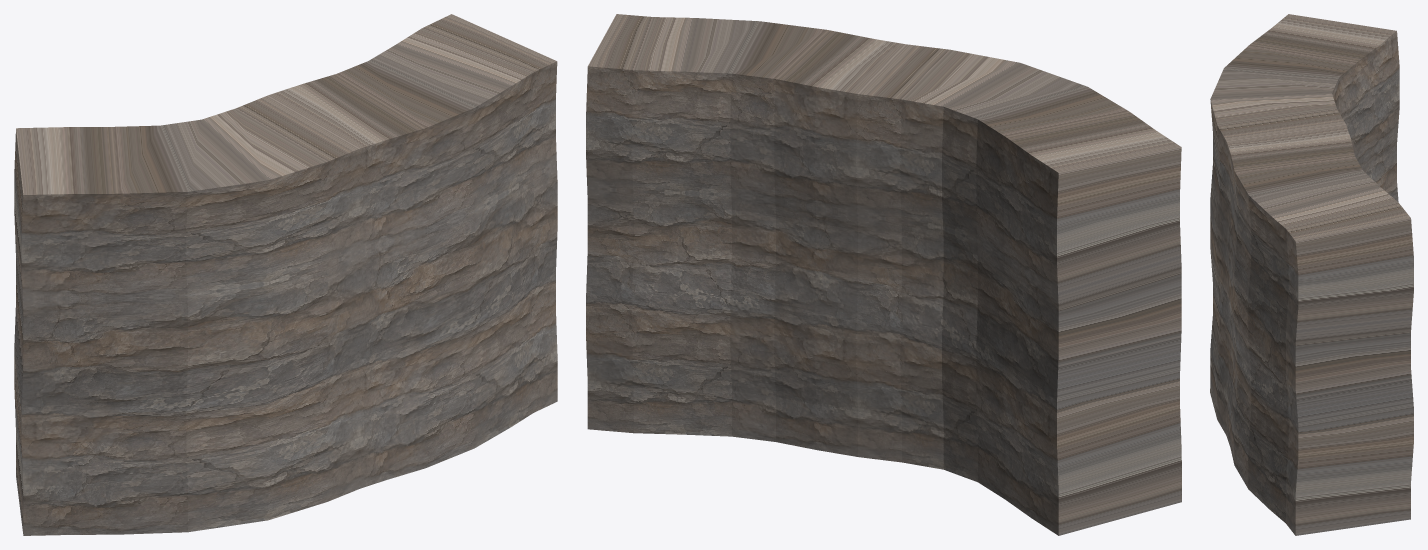
File: cliff-concave.glb
3 renders of one model, left to right at view 1: azimuth 30°, elevation 25°; view 2: azimuth 150°, elevation 25°; view 3: azimuth 270°, elevation 25°, orthographic. The views are drawn at different scales.
Parts seen in each view (by area): view 1: cliff-concave; view 2: cliff-concave; view 3: cliff-concave.
Part boxes in pixels (left/top/right/bottom): cliff-concave: left=14, top=14, right=557, bottom=535; cliff-concave: left=586, top=14, right=1181, bottom=535; cliff-concave: left=1210, top=14, right=1413, bottom=535.
Size of the model in its own units: 4.85 by 3 by 1.84.
1 material, 1 textured.
